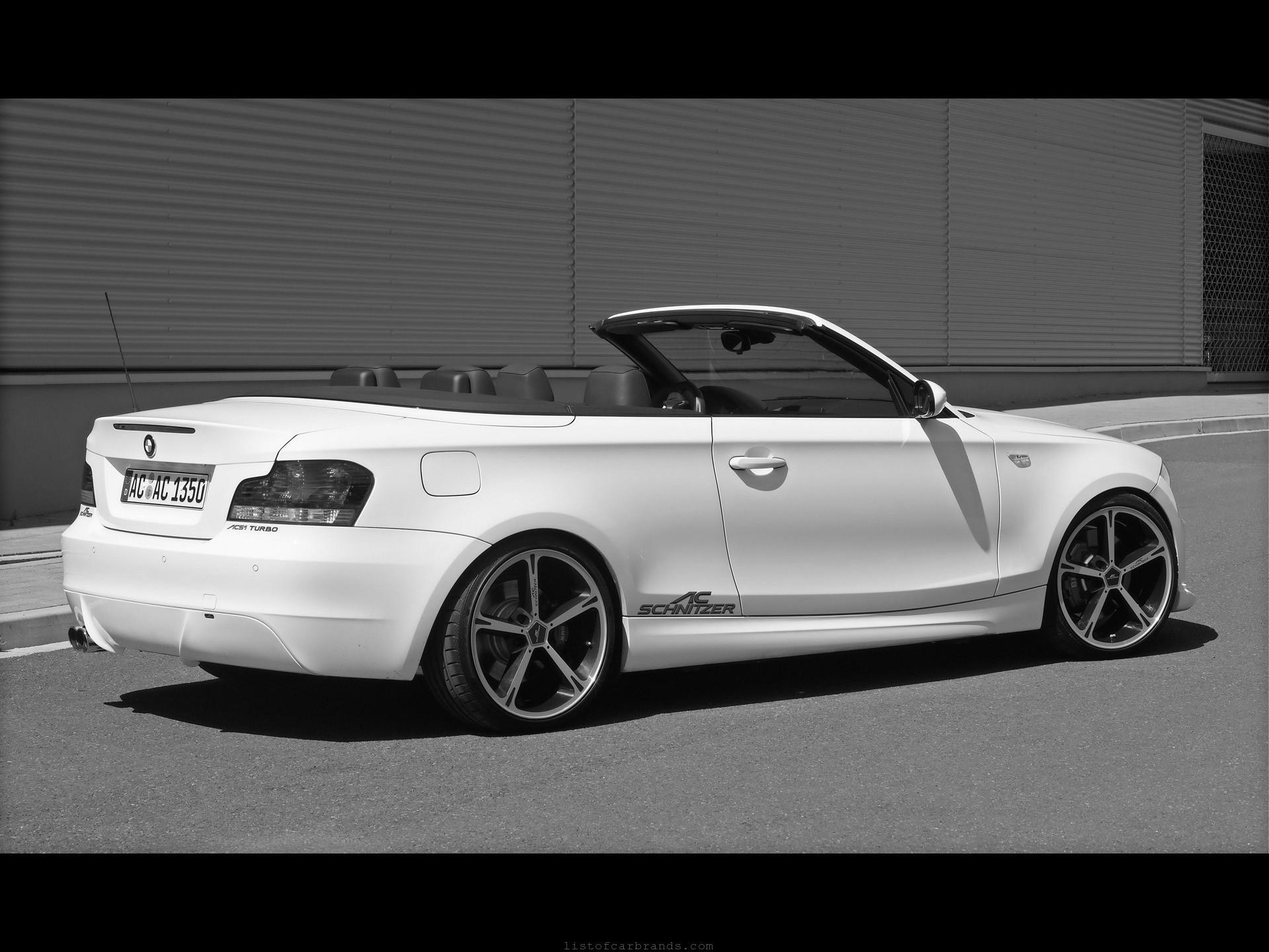car: (60, 301, 1190, 746)
